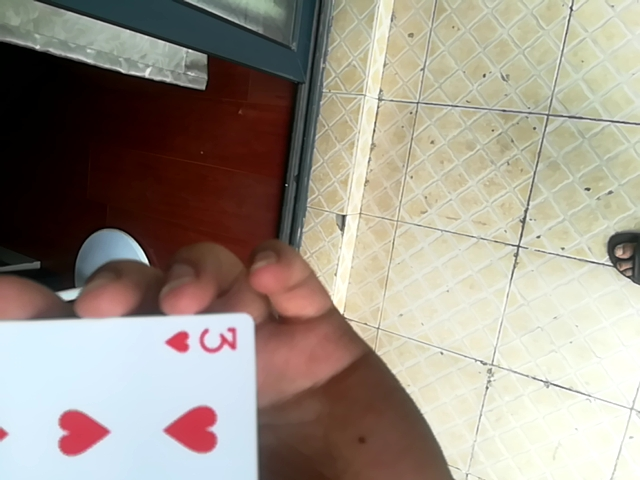hx 3: (1, 308, 256, 479)
